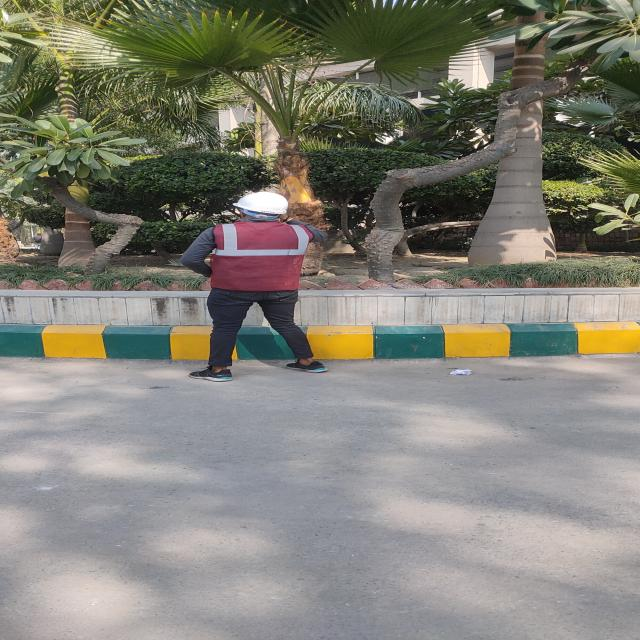safe: (182, 192, 328, 380)
